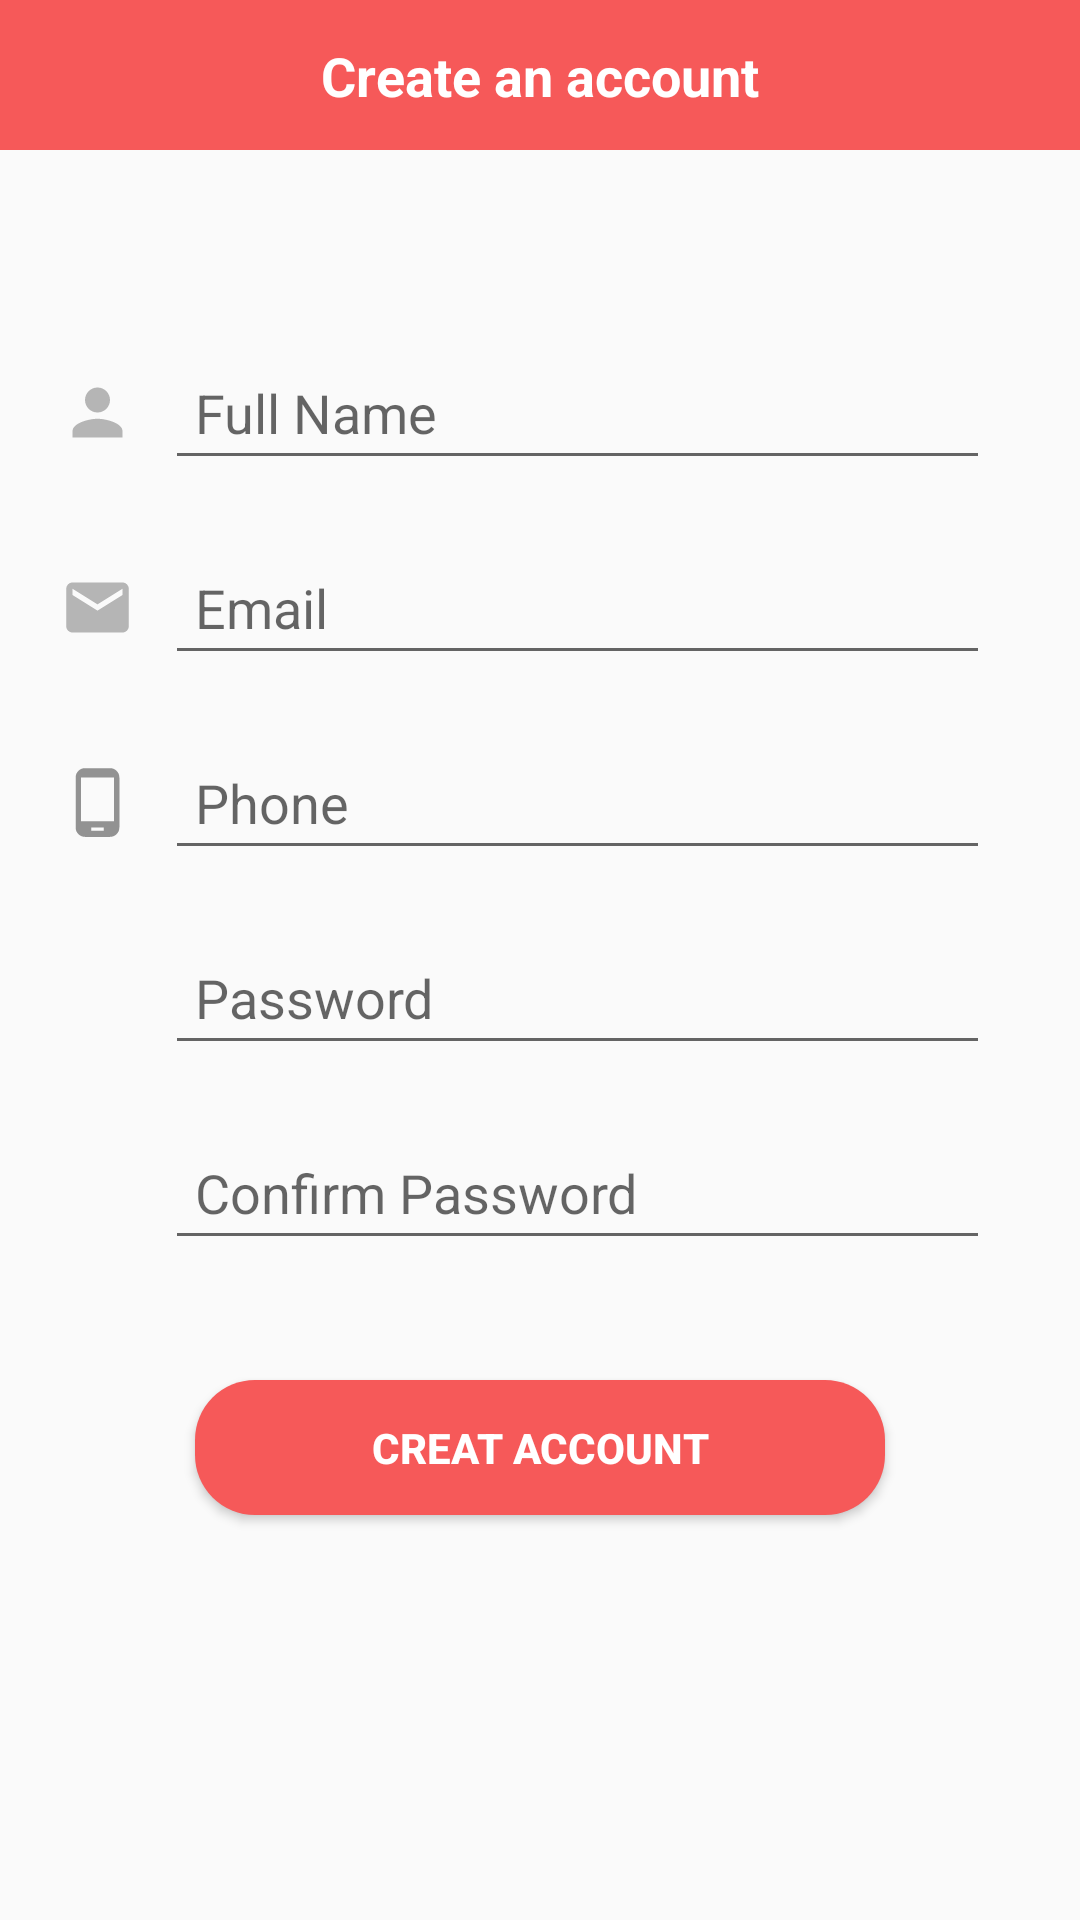

Named icons in this screenshot (1080*1920) and their centers, point (x, y):
person: point (97, 412)
